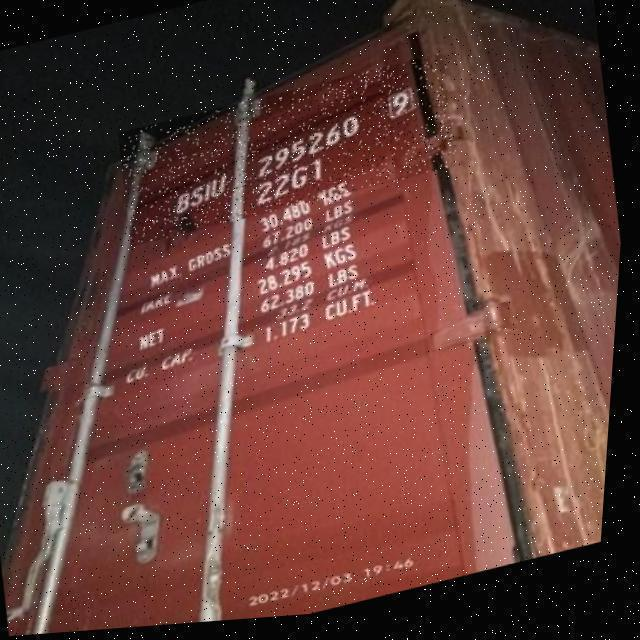ISO: (248, 156, 328, 208)
container_number: (168, 79, 418, 213)
